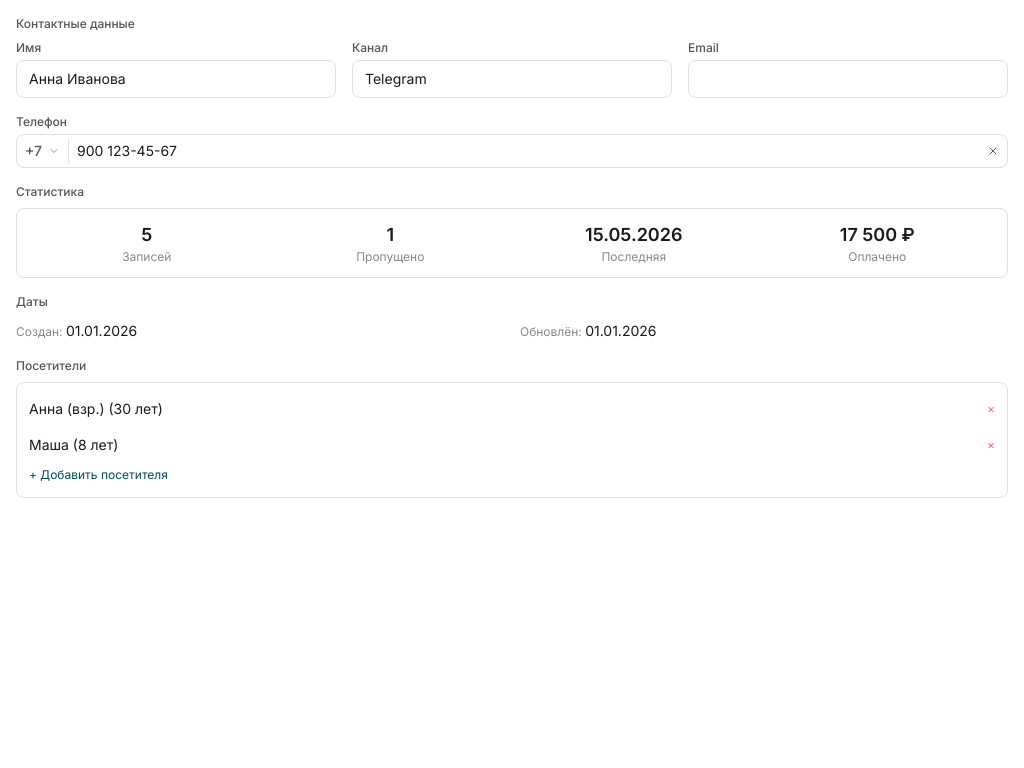
Test case: ClientInfoTab › visitors section › dialog confirm → cascade enqueued (removeVisitorResolved), dialog closes
The image size is (1024, 768).
What coordinates should you click on to do the following:
click the button named "Удалить посетителя"
I would click on:
 (991, 409)
Its box is [987, 401, 995, 417].
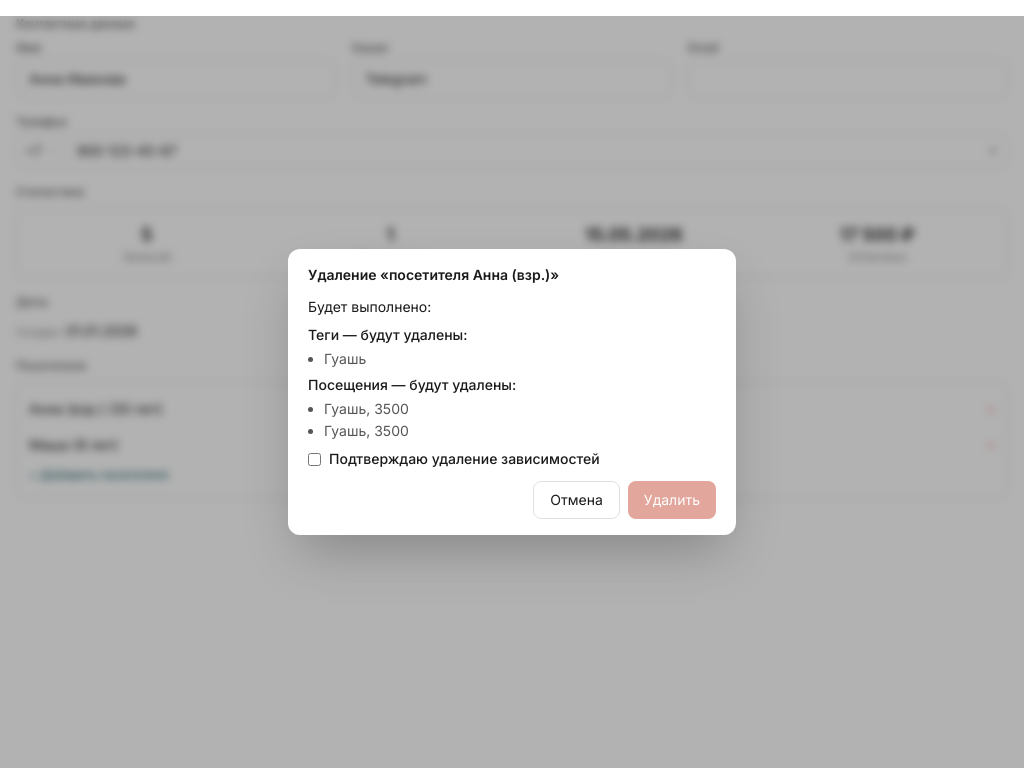
Now the heading "Удаление «посетителя Анна (взр.)»" is shown, box [308, 266, 559, 283]
What coordinates should you click on to do the following:
click the checkbox with test id "delete-dialog-confirm-checkbox"
I would click on:
 (314, 459)
Its box is [308, 452, 321, 466].
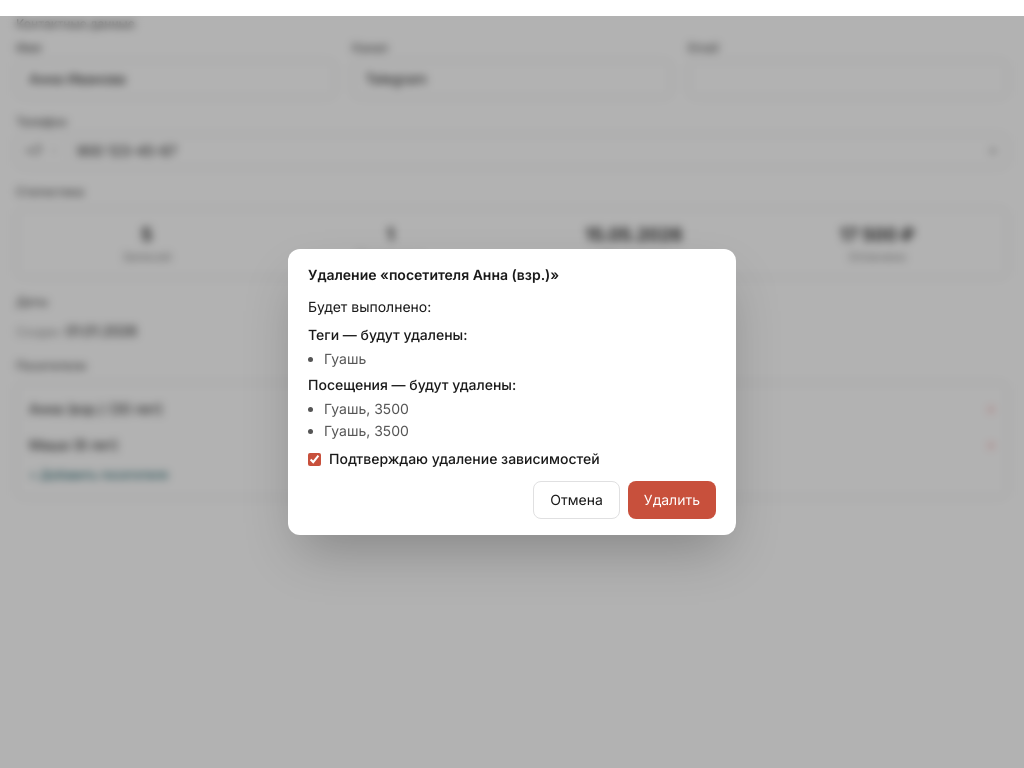
What coordinates should you click on to do the following:
click the button with test id "delete-dialog-confirm-btn"
I would click on:
 (672, 500)
Its box is [628, 481, 716, 519].
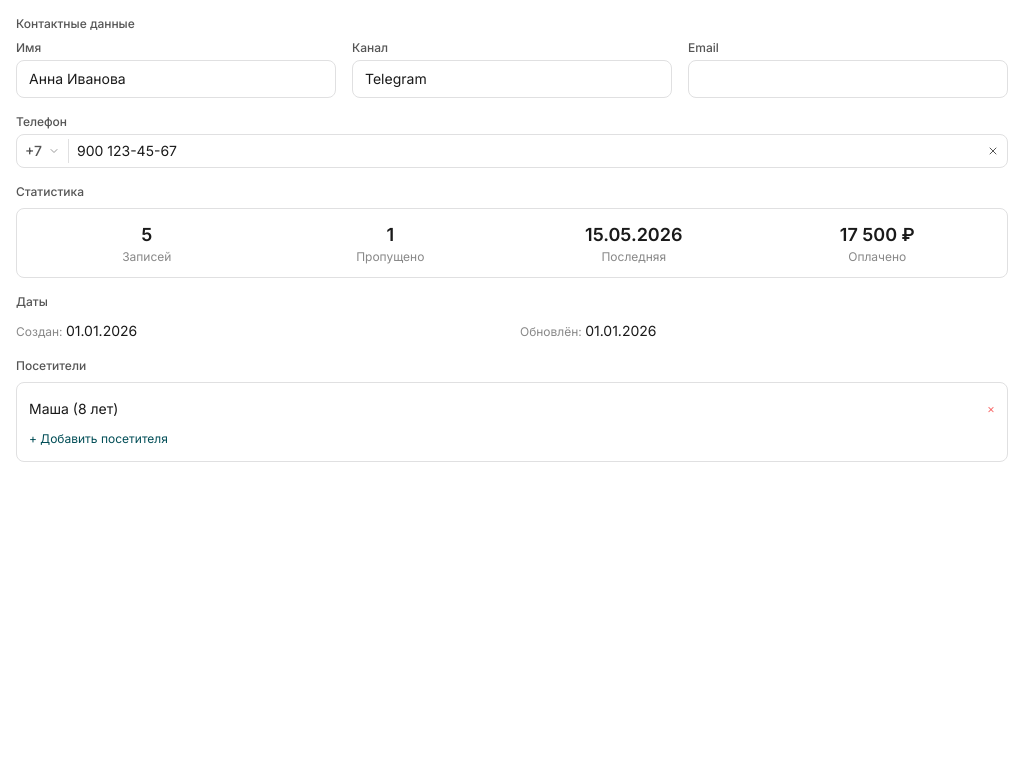
Now the heading with test id "delete-dialog-title" is gone
